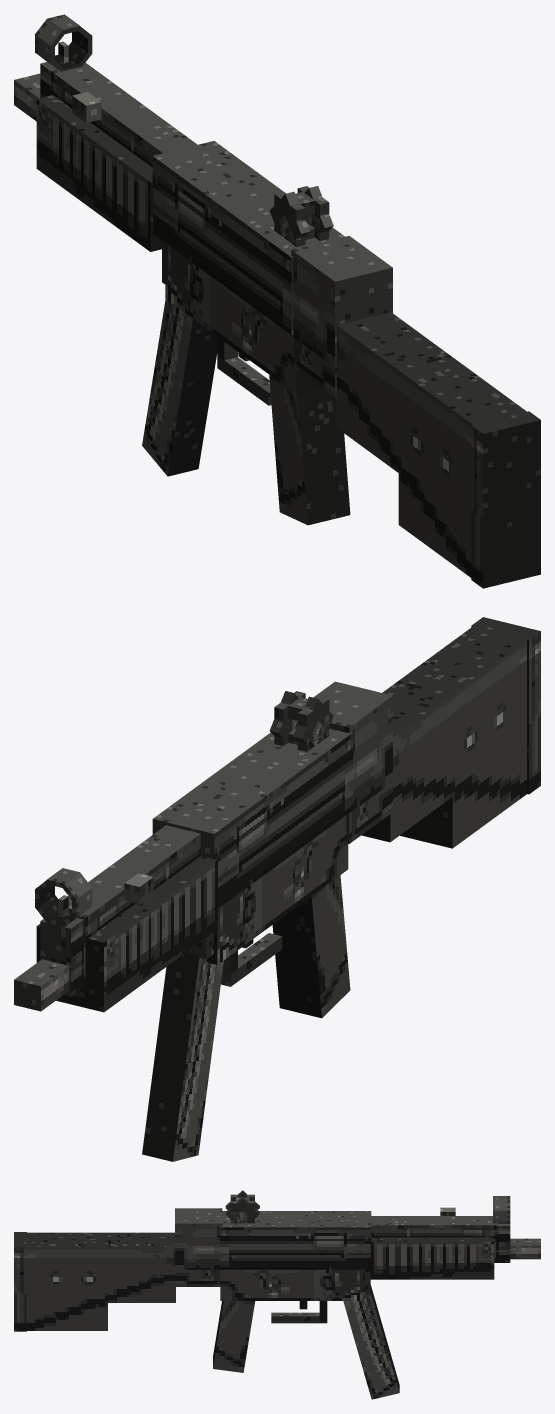
The picture shows the model from 3 angles, top to bottom: view 1: azimuth 30°, elevation 25°; view 2: azimuth 150°, elevation 25°; view 3: azimuth 270°, elevation 25°; orthographic projection. The views are drawn at different scales.
Parts seen in each view (by area): view 1: receiver, stock_rear, butt_plate, receiver_cap, handguard, stock_front, pistol_grip, magazine, trigger_housing, cocking_tube, trigger_guard, rear_drum_left_45 (+2 smaller); view 2: receiver, stock_rear, handguard, magazine, stock_front, pistol_grip, trigger_housing, receiver_cap, cocking_tube, butt_plate, front_sight_base, muzzle (+3 smaller); view 3: receiver, stock_rear, handguard, stock_front, trigger_housing, receiver_cap, magazine, cocking_tube, pistol_grip, butt_plate, muzzle, front_sight_base (+3 smaller).
Part boxes in pixels (x1,y1,x2,y2): receiver: (152, 141, 344, 334); stock_rear: (398, 357, 527, 577); butt_plate: (471, 411, 540, 588); receiver_cap: (291, 236, 392, 398); handguard: (36, 95, 161, 251); stock_front: (336, 312, 451, 472); pistol_grip: (269, 375, 350, 525); magazine: (142, 299, 217, 476); trigger_housing: (165, 243, 320, 394); cocking_tube: (51, 62, 197, 167); trigger_guard: (217, 355, 271, 405); rear_drum_left_45: (270, 191, 309, 243); receiver: (152, 728, 353, 908); stock_rear: (399, 625, 527, 848); handguard: (36, 856, 217, 1012); magazine: (142, 952, 223, 1161); stock_front: (361, 681, 452, 842); pistol_grip: (272, 875, 350, 1018); trigger_housing: (206, 815, 348, 964); receiver_cap: (313, 681, 392, 843); cocking_tube: (68, 825, 200, 941); butt_plate: (471, 617, 540, 794); front_sight_base: (40, 918, 85, 996); muzzle: (14, 959, 69, 1011); receiver: (220, 1211, 371, 1269); stock_rear: (26, 1232, 107, 1330); handguard: (370, 1237, 494, 1279); stock_front: (108, 1232, 175, 1302); trigger_housing: (220, 1269, 362, 1300); receiver_cap: (175, 1208, 222, 1286); magazine: (343, 1285, 399, 1399); cocking_tube: (371, 1216, 496, 1237); pistol_grip: (213, 1301, 255, 1372); butt_plate: (14, 1232, 26, 1331); muzzle: (510, 1238, 540, 1259); front_sight_base: (494, 1224, 510, 1262).
Bounding box in the file's own units: 0.0547 × 0.2864 × 0.68.
1 material, 1 textured.
